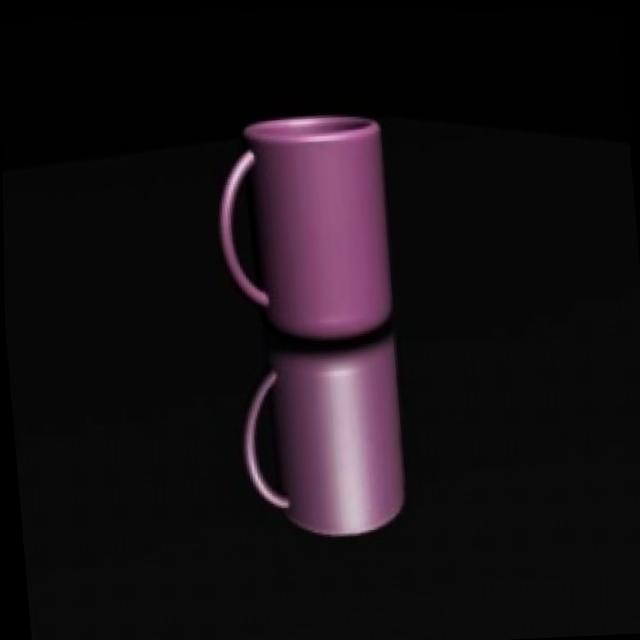cup: (190, 86, 434, 362)
